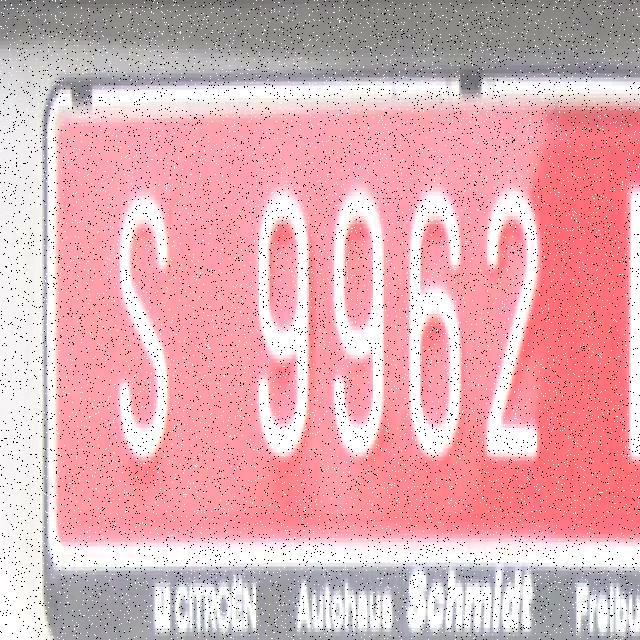licenseplate: (42, 74, 640, 566)
